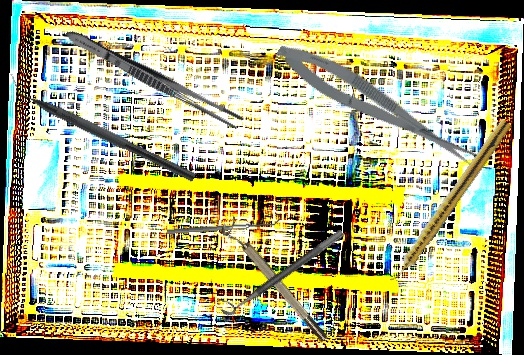Chopper: (0, 71, 203, 183)
Dressing Forceps: (62, 25, 246, 132)
Fixation Ring: (217, 215, 331, 349), (214, 218, 346, 320)
Handpiece: (385, 116, 513, 287)
Micro Scissor: (270, 31, 482, 180)
Spatula Surgical: (166, 216, 283, 235)
